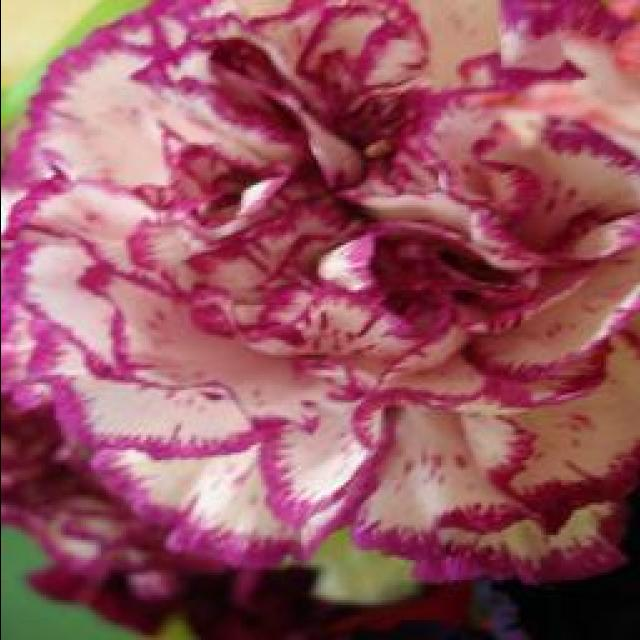carnation: (12, 0, 640, 600)
